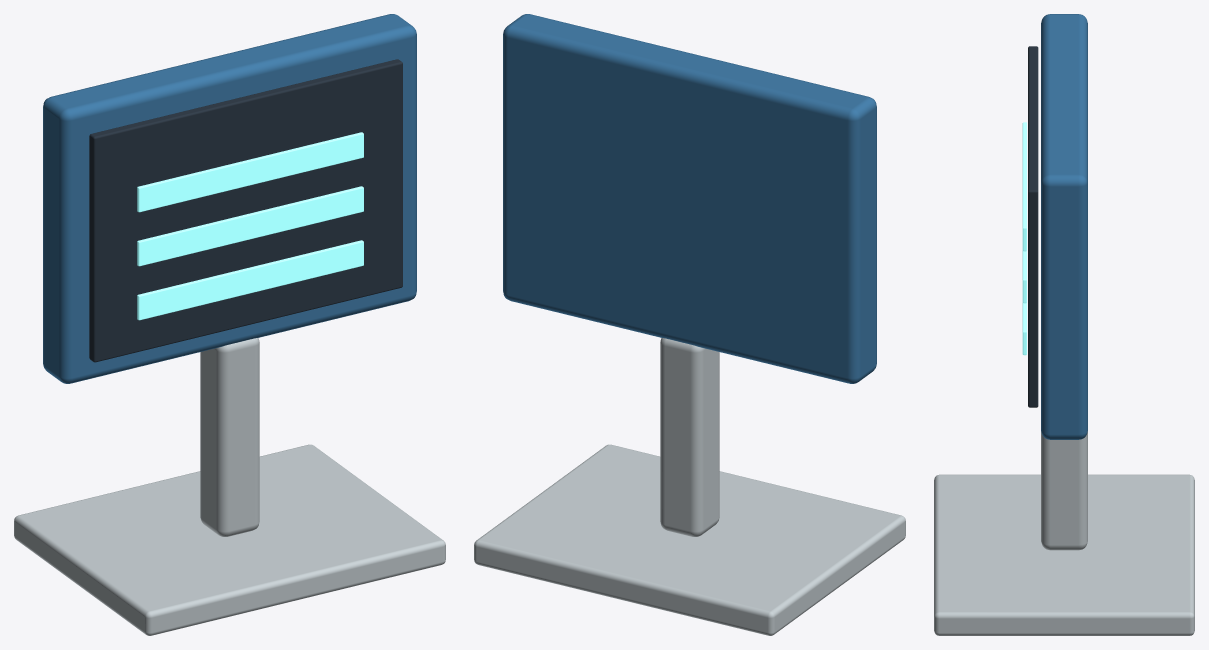
File: squash-club-and-racket-workshop-booking-terminal-c5ea89dd__29774.glb
3 views of the same model, side by side, from view 1: azimuth 30°, elevation 25°; view 2: azimuth 150°, elevation 25°; view 3: azimuth 270°, elevation 25° (orthographic). The views are drawn at different scales.
Parts seen in each view (by area): view 1: booking-terminal; view 2: booking-terminal; view 3: booking-terminal.
Part boxes in pixels (box(x1,y1,x2,y2)): booking-terminal: box(14, 14, 445, 635); booking-terminal: box(474, 14, 905, 635); booking-terminal: box(934, 14, 1194, 635).
Size of the model in its own units: 0.38 by 0.5 by 0.25.
